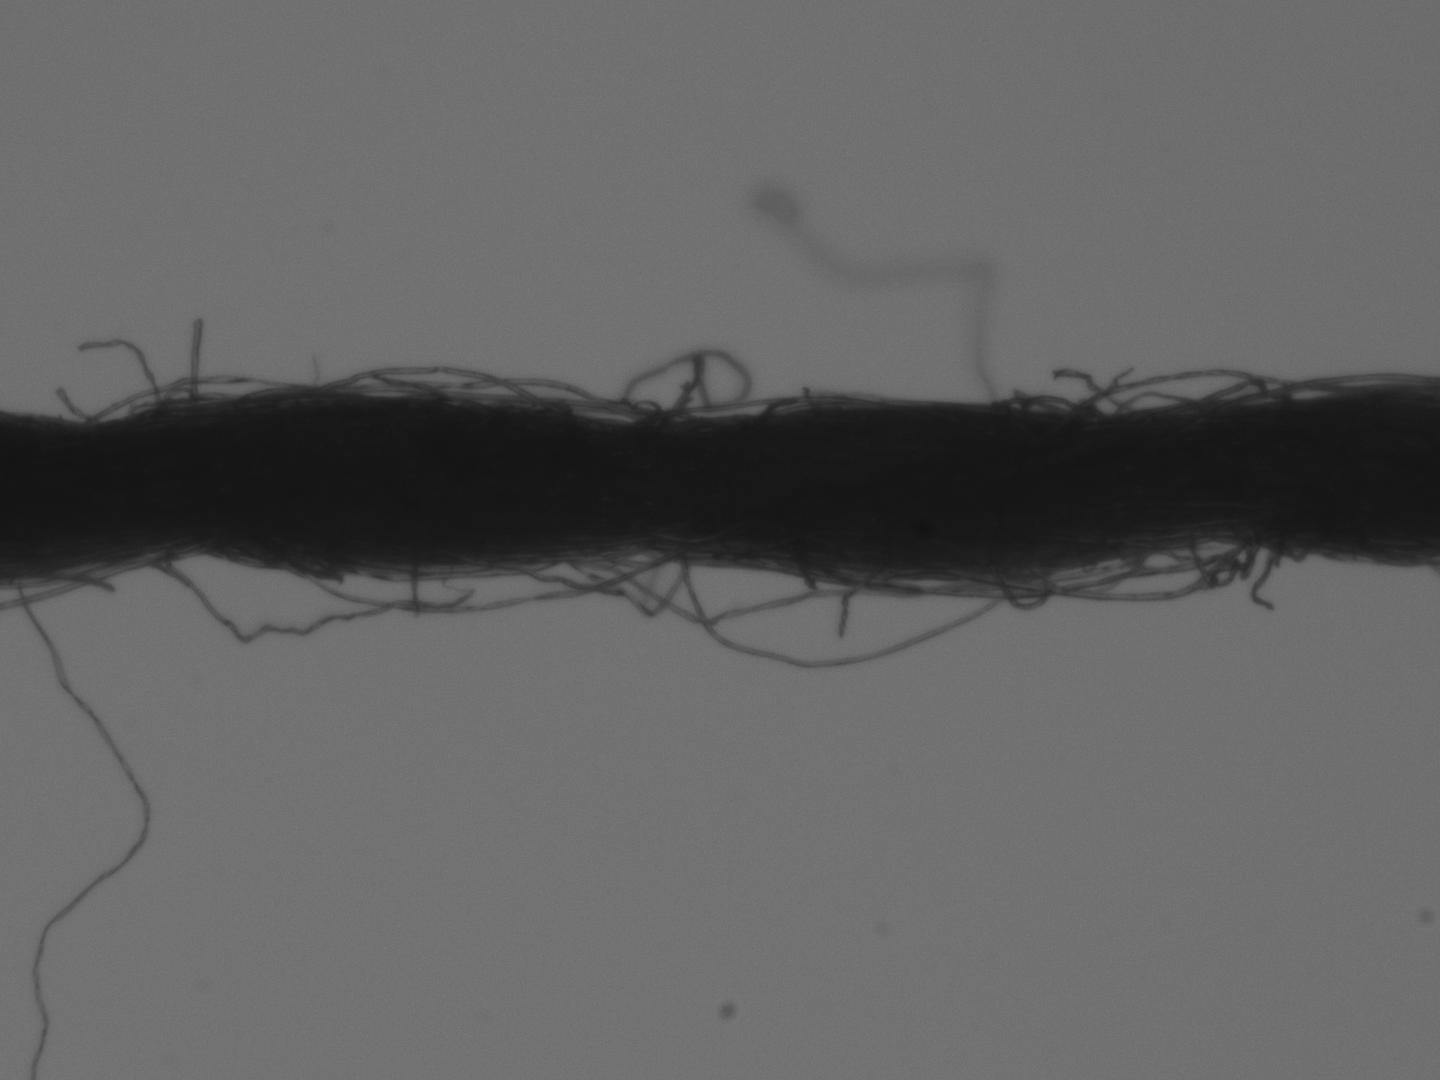loop_fiber: (490, 531, 712, 623), (1057, 362, 1294, 429), (73, 370, 314, 433), (618, 340, 760, 444), (310, 362, 548, 415), (979, 541, 1061, 615), (1185, 537, 1256, 591)
protruding_fiber: (835, 568, 880, 639), (1245, 546, 1285, 618)
